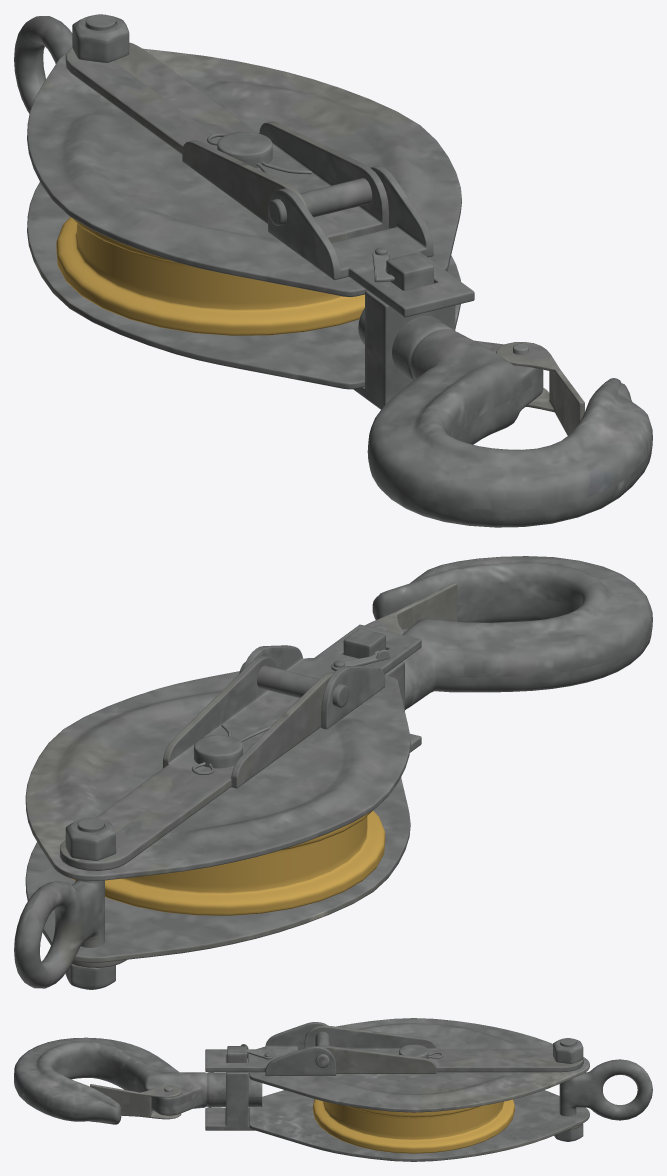
File: 14066_Pulley_Hook_Single_v1_L2.obj
The picture shows the model from 3 angles, top to bottom: view 1: azimuth 30°, elevation 25°; view 2: azimuth 150°, elevation 25°; view 3: azimuth 270°, elevation 25°; orthographic projection. The views are drawn at different scales.
Parts seen in each view (by area): view 1: 14066_Pulley_Hook_Single_v1; view 2: 14066_Pulley_Hook_Single_v1; view 3: 14066_Pulley_Hook_Single_v1.
Part boxes in pixels (bbox=[...]): 14066_Pulley_Hook_Single_v1: bbox=[14, 14, 652, 527]; 14066_Pulley_Hook_Single_v1: bbox=[14, 556, 652, 989]; 14066_Pulley_Hook_Single_v1: bbox=[14, 1018, 652, 1161].
Bounding box in the file's own units: 1.84 × 0.972 × 5.42.
Materials: 1 (1 with a texture image).
